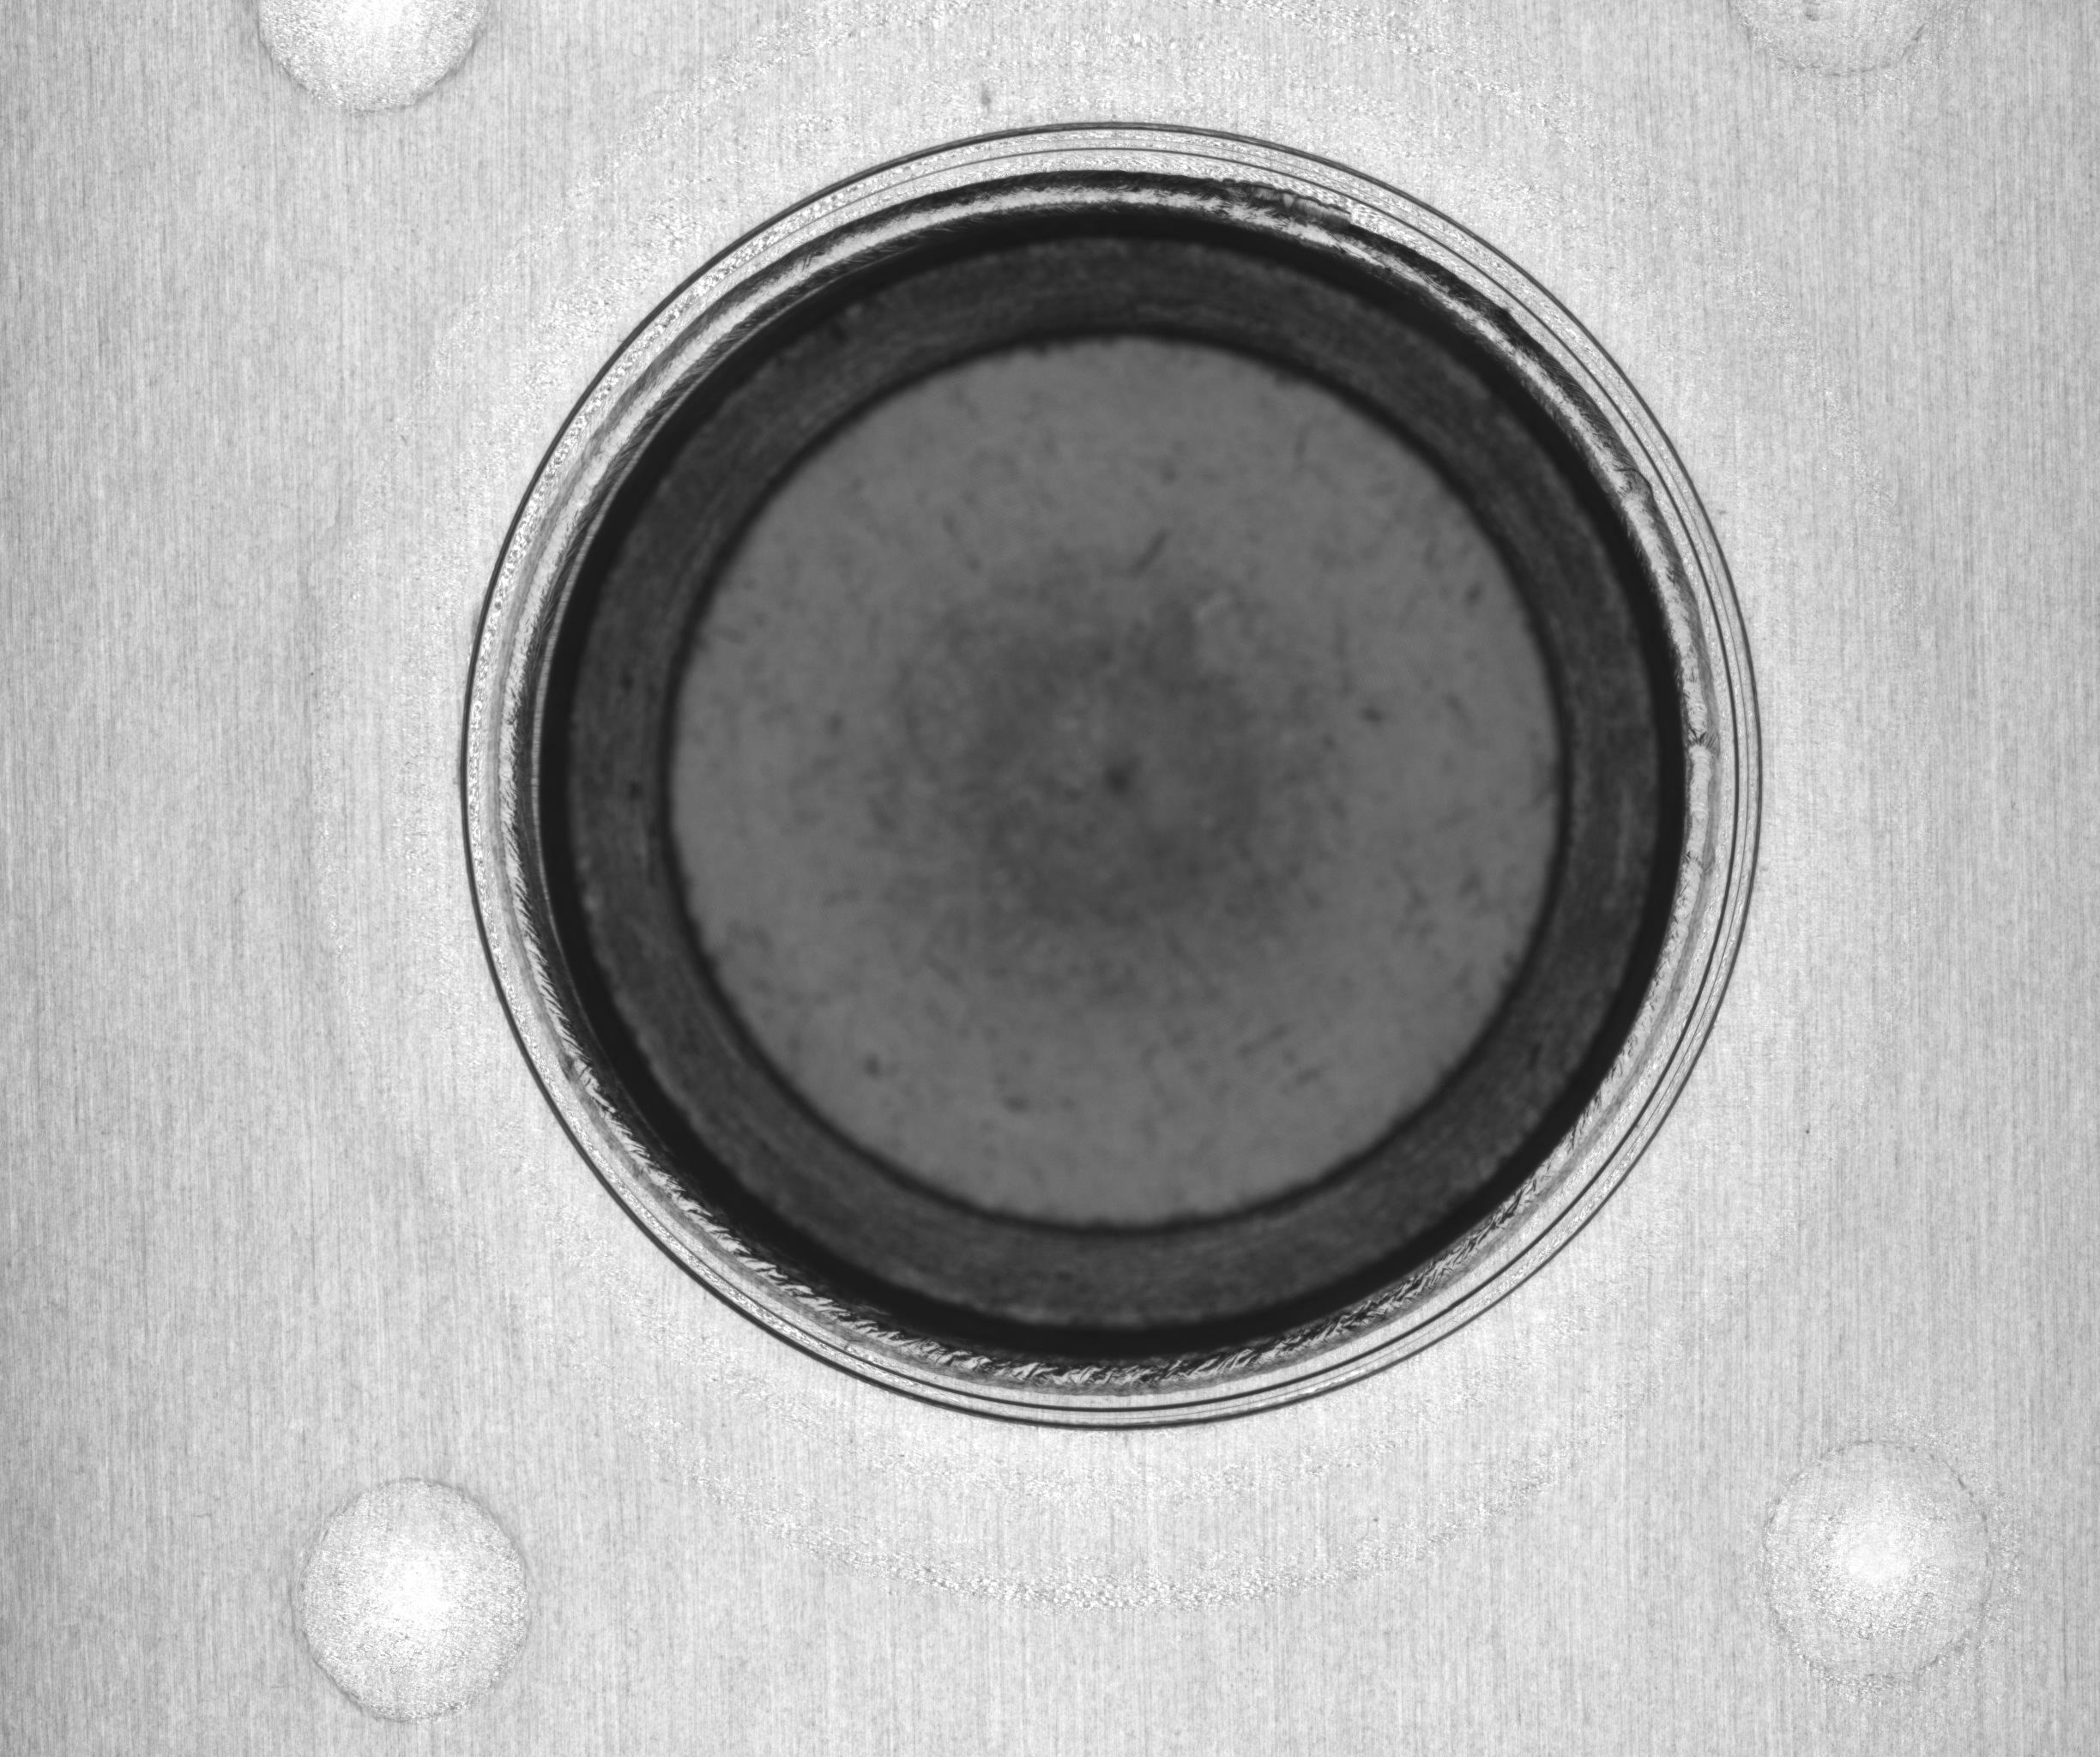coveriswrong: (504, 176, 1690, 1330)
